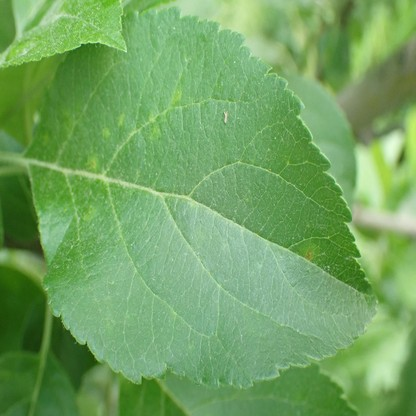scab: (302, 243, 315, 265), (86, 150, 99, 170), (83, 205, 97, 220), (150, 124, 161, 141), (106, 315, 115, 332), (172, 87, 181, 103), (116, 112, 123, 125), (102, 126, 110, 137), (148, 113, 155, 121)
